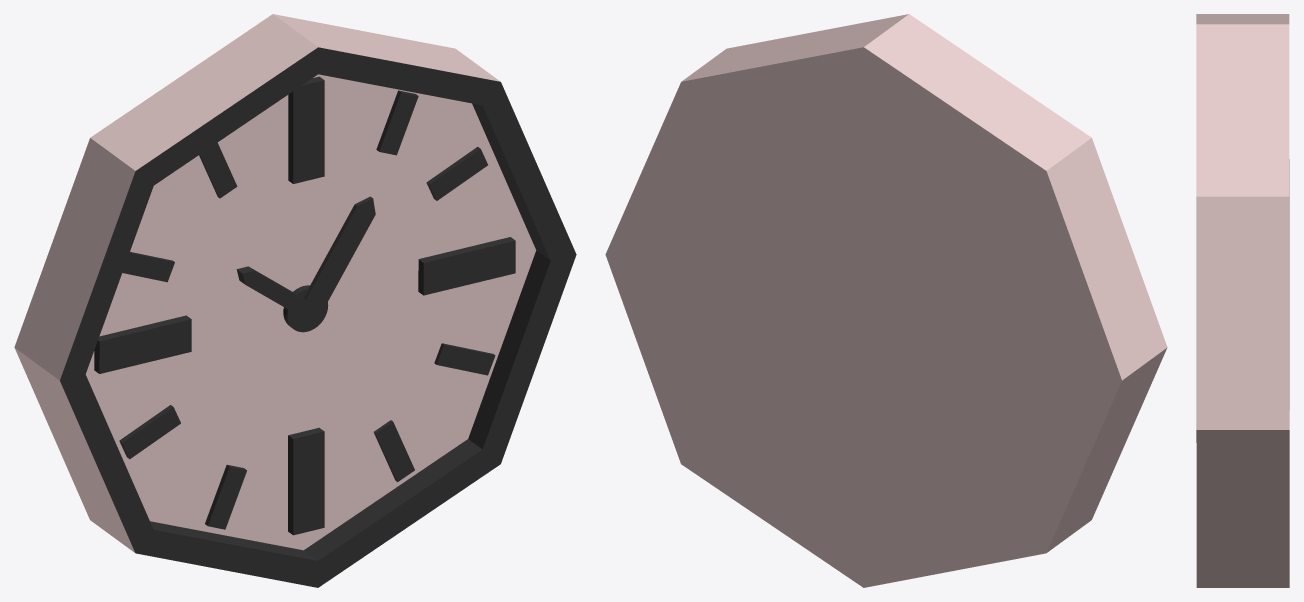
Rendered from WATCH.fbx.
3 renders of one model, left to right at view 1: azimuth 30°, elevation 25°; view 2: azimuth 150°, elevation 25°; view 3: azimuth 270°, elevation 25°, orthographic. The views are drawn at different scales.
Parts seen in each view (by area): view 1: Cylinder_1, Cube_13, Cube_14; view 2: Cylinder_1; view 3: Cylinder_1.
Part boxes in pixels (<box>): Cylinder_1: <box>14,14,576,587</box>; Cube_13: <box>304,196,375,321</box>; Cube_14: <box>236,266,319,322</box>; Cylinder_1: <box>605,14,1167,587</box>; Cylinder_1: <box>1196,14,1289,587</box>.
Size of the model in its own units: 212 by 212 by 32.38.
